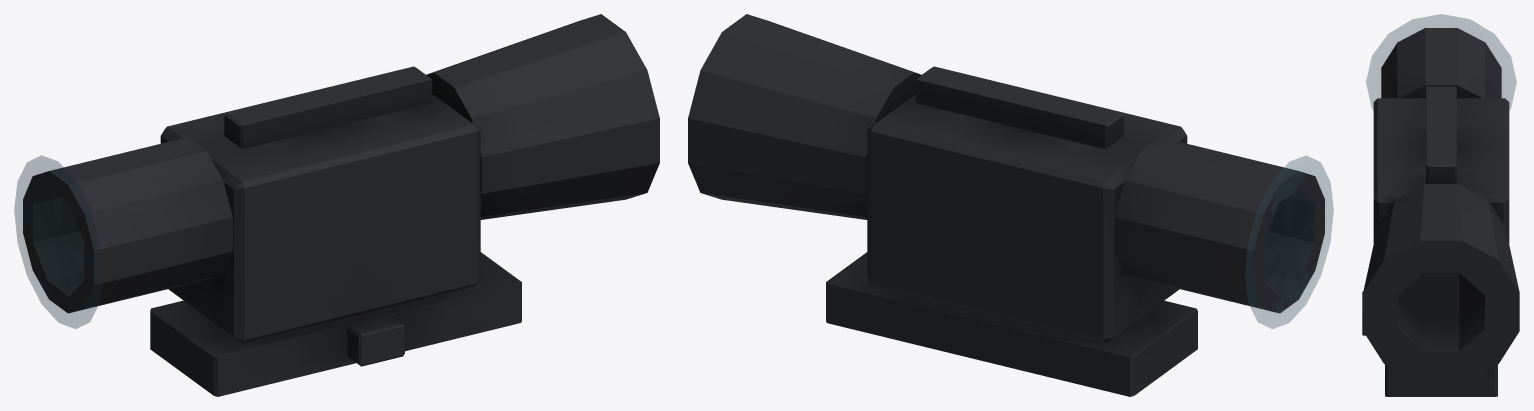
Rendered from k-att-magnified-lacog4x.glb.
3 renders of one model, left to right at view 1: azimuth 30°, elevation 25°; view 2: azimuth 150°, elevation 25°; view 3: azimuth 270°, elevation 25°, orthographic. The views are drawn at different scales.
Visible parts, largest first — view 1: kit, lens; view 2: kit, lens; view 3: kit, lens.
Boxes of the visible parts, <box> form: kit: <box>23,14,659,396</box>; lens: <box>14,155,102,328</box>; kit: <box>688,14,1324,396</box>; lens: <box>1245,155,1333,328</box>; kit: <box>1362,28,1519,396</box>; lens: <box>1366,14,1516,110</box>.
Size of the model in its own units: 0.144 by 0.0608 by 0.0418.
